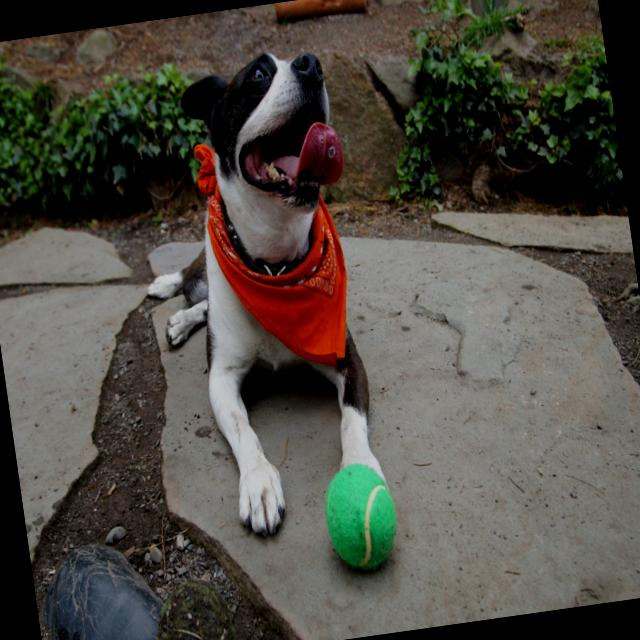Tennis Ball: (322, 456, 405, 578)
